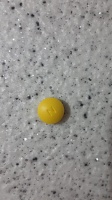Nurofen: (36, 96, 66, 125)
